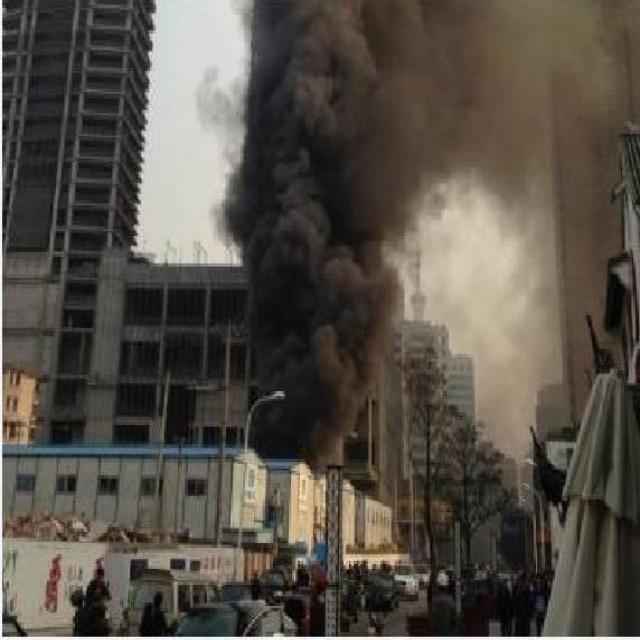Smoke: (220, 0, 612, 443)
